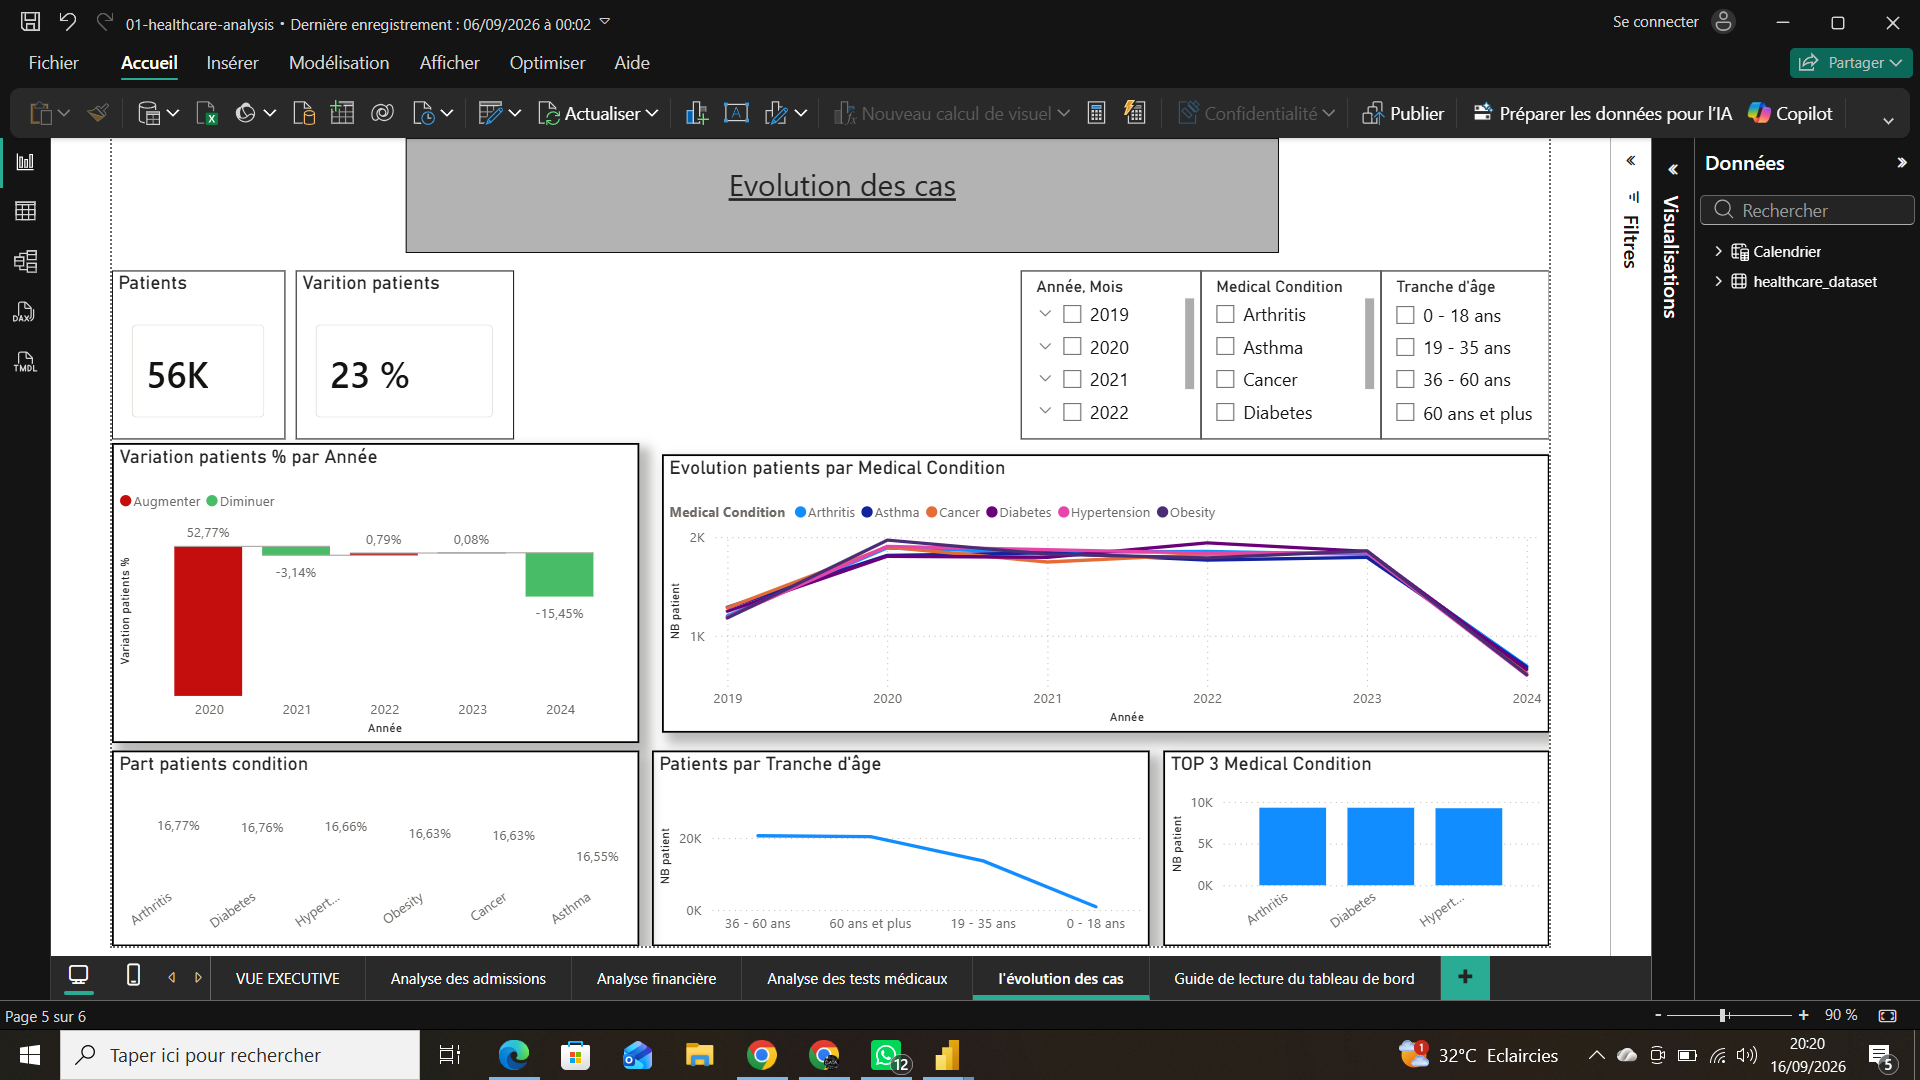

Layout of this report page (visuals, bound fields, positions):
{"tool":"powerbi","page":{"name":" l'évolution des cas","canvas":[1280,720],"ordinal":4},"visuals":[{"type":"textbox","box":[261.6,0,777.9,102.3],"z":0},{"type":"lineChart","title":"Evolution patients par Medical Condition","fields":{"Y":["healthcare_dataset.NB patient"],"Series":["healthcare_dataset.Medical Condition"],"Category":["Calendrier.Date.Variation.Hiérarchie de dates.Année","Calendrier.Date.Variation.Hiérarchie de dates.Mois"]},"box":[489.5,281.4,790.7,247.7],"z":1000},{"type":"slicer","fields":{"Values":["healthcare_dataset.Medical Condition"]},"box":[969.8,117.4,160.5,150],"z":2000},{"type":"slicer","fields":{"Values":["Calendrier.Année","Calendrier.Mois"]},"box":[809.3,117.4,160.5,150],"z":3000},{"type":"waterfallChart","fields":{"Category":["Calendrier.Année"],"Y":["healthcare_dataset.Variation patients %"]},"box":[0,272.1,469.8,267.4],"z":4000},{"type":"lineChart","title":"Patients par Tranche d''âge","fields":{"Category":["healthcare_dataset.Tranche d'âge"],"Y":["healthcare_dataset.NB patient"]},"box":[481.4,545.4,443,174.4],"z":5000},{"type":"lineChart","title":"Part patients condition","fields":{"Category":["healthcare_dataset.Medical Condition"],"Y":["Calendrier.Part patients condition"]},"box":[0,545.4,469.8,174.4],"z":6000},{"type":"clusteredColumnChart","title":"TOP 3  Medical Condition","fields":{"Category":["healthcare_dataset.Medical Condition"],"Y":["healthcare_dataset.NB patient"]},"box":[936,545.4,344.2,174.4],"z":7000},{"type":"cardVisual","title":"Patients","fields":{"Data":["healthcare_dataset.NB patient"]},"box":[0,117.4,154.7,150],"z":8000},{"type":"cardVisual","title":"Varition patients","fields":{"Data":["healthcare_dataset.Variation patients %"]},"box":[164,117.4,194.2,150],"z":9000},{"type":"slicer","fields":{"Values":["healthcare_dataset.Tranche d'âge"]},"box":[1130.2,117.4,150,150],"z":10000}]}

Visuals, with their boxes on the page's 1280x720 design canvas (x1, y1, x2, y2). These are canvas units, not pixel positions in the 1920x1080 screenshot, which may show the page scaled, cropped or inside an application window:
textbox: box=[262, 0, 1040, 102]
"Evolution patients par Medical Condition" lineChart: box=[490, 281, 1280, 529]
slicer - healthcare_dataset.Medical Condition: box=[970, 117, 1130, 267]
slicer - Calendrier.Année x Calendrier.Mois: box=[809, 117, 970, 267]
waterfallChart - Calendrier.Année x healthcare_dataset.Variation patients %: box=[0, 272, 470, 540]
"Patients par Tranche d''âge" lineChart: box=[481, 545, 924, 720]
"Part patients condition" lineChart: box=[0, 545, 470, 720]
"TOP 3  Medical Condition" clusteredColumnChart: box=[936, 545, 1280, 720]
"Patients" cardVisual: box=[0, 117, 155, 267]
"Varition patients" cardVisual: box=[164, 117, 358, 267]
slicer - healthcare_dataset.Tranche d'âge: box=[1130, 117, 1280, 267]
